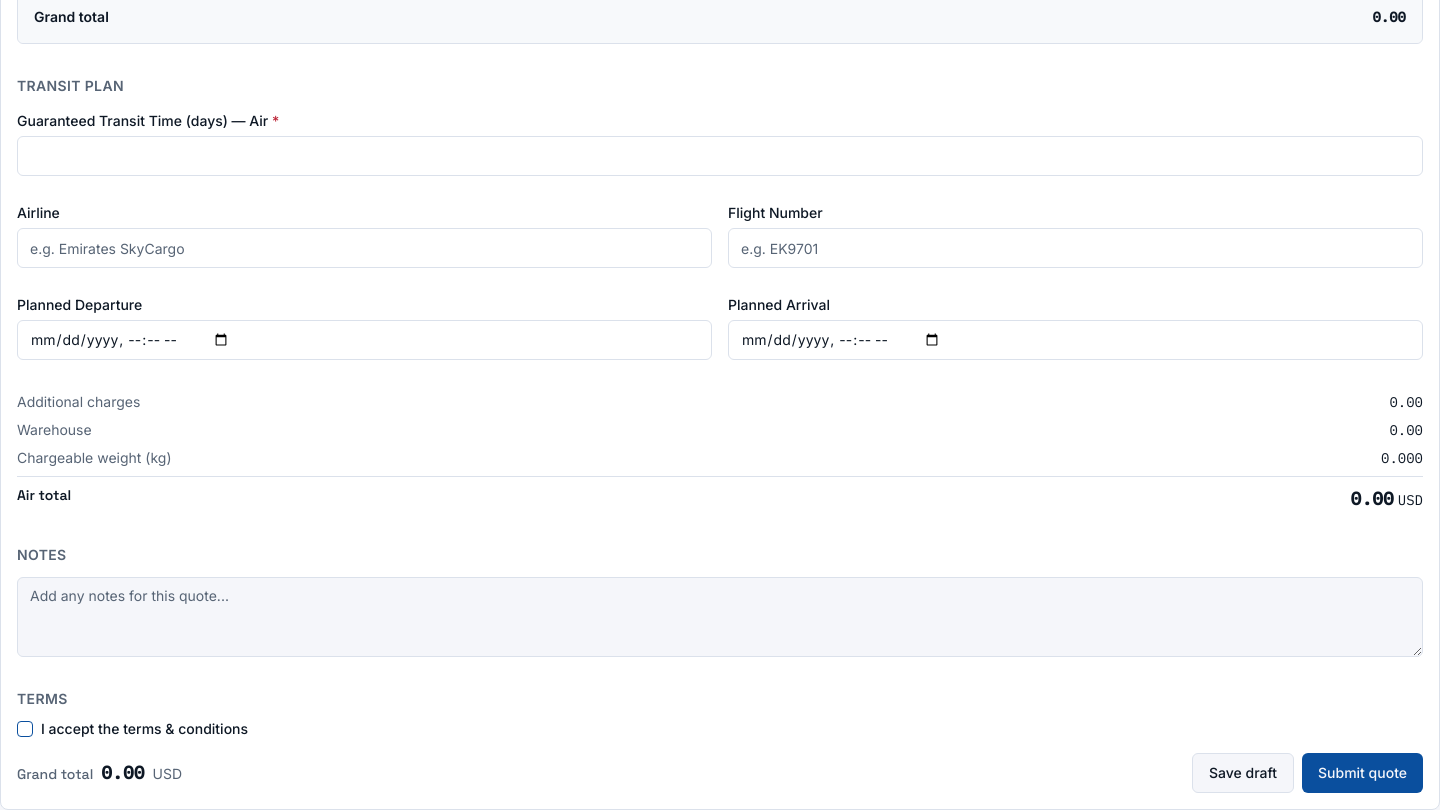
LegSection save-draft failure surfacing (review round 1, MINOR 4) › control: a successful save shows no error
The width and height of the screenshot is (1440, 810).
(page scrolled)
Click the button "Save draft". click: (1243, 773)
box: [1192,753,1294,793]
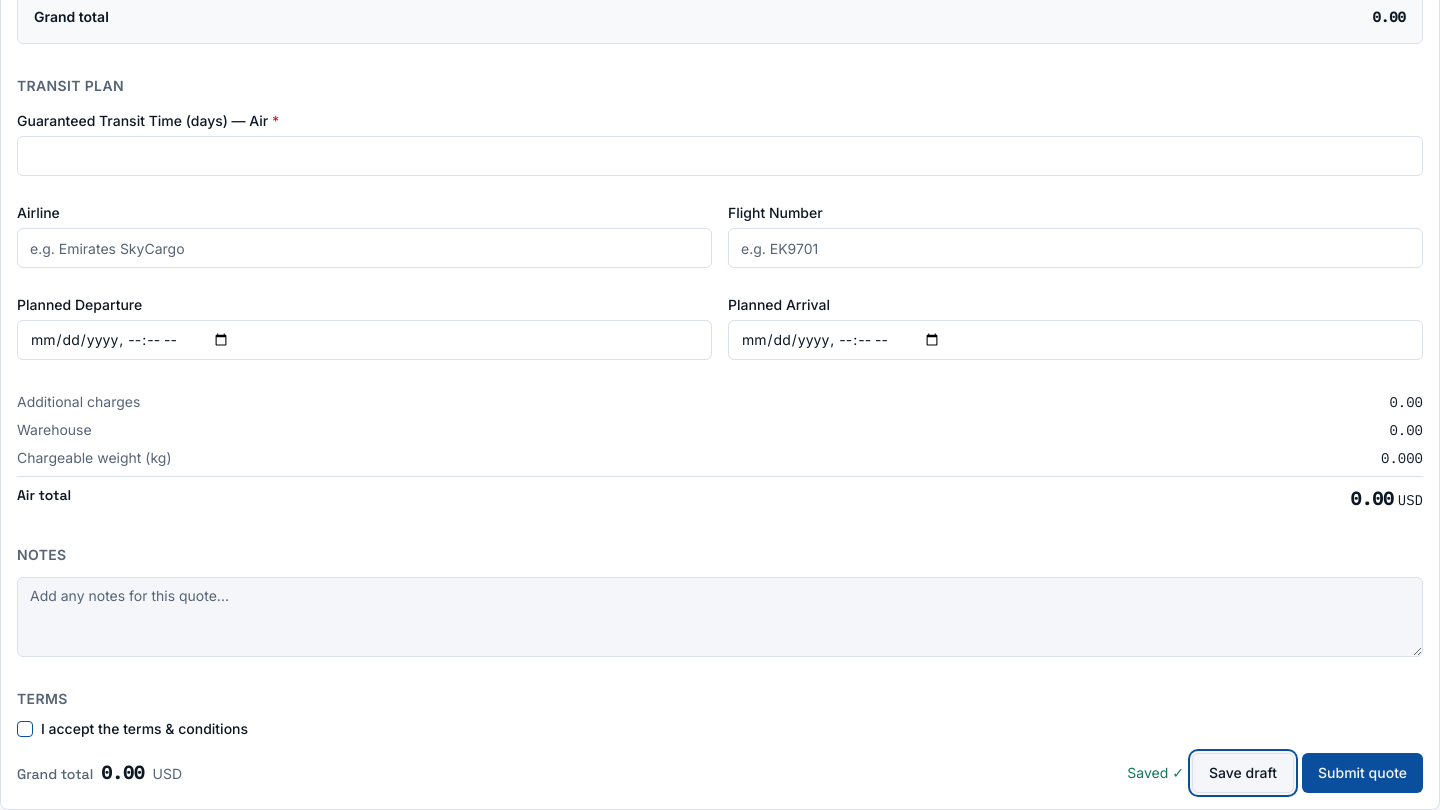
Now the text "Saved ✓" is shown, box [1127,763,1184,783]
